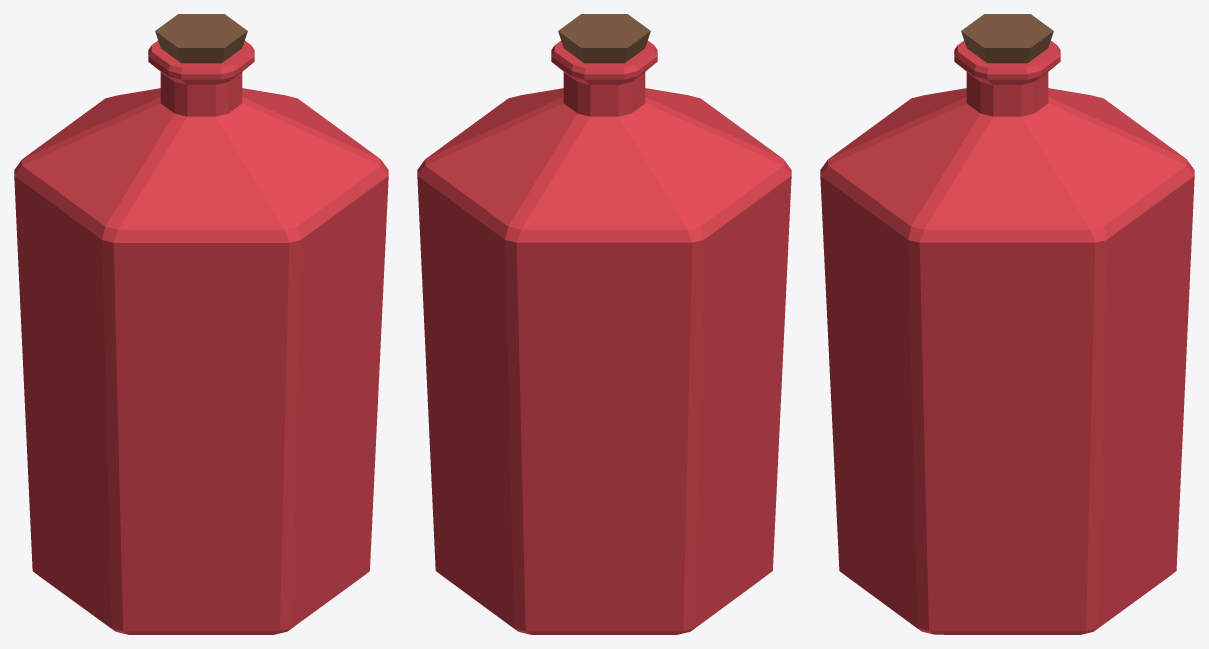
The model's file is Potion_02_Red.fbx.
The picture shows the model from 3 angles, left to right: view 1: azimuth 30°, elevation 25°; view 2: azimuth 150°, elevation 25°; view 3: azimuth 270°, elevation 25°; orthographic projection.
Visible parts, largest first — view 1: Cone.001, Cylinder.002, Cylinder.003; view 2: Cone.001, Cylinder.002, Cylinder.003; view 3: Cone.001, Cylinder.002, Cylinder.003.
Boxes of the visible parts, left/top/right/bottom form: Cone.001: left=14, top=88, right=388, bottom=634; Cylinder.002: left=148, top=40, right=254, bottom=116; Cylinder.003: left=155, top=14, right=247, bottom=63; Cone.001: left=417, top=88, right=791, bottom=634; Cylinder.002: left=551, top=40, right=657, bottom=116; Cylinder.003: left=558, top=14, right=650, bottom=63; Cone.001: left=820, top=88, right=1194, bottom=634; Cylinder.002: left=954, top=40, right=1060, bottom=116; Cylinder.003: left=961, top=14, right=1053, bottom=63.
Bounding box in the file's own units: 14.97 × 27.16 × 16.94.
